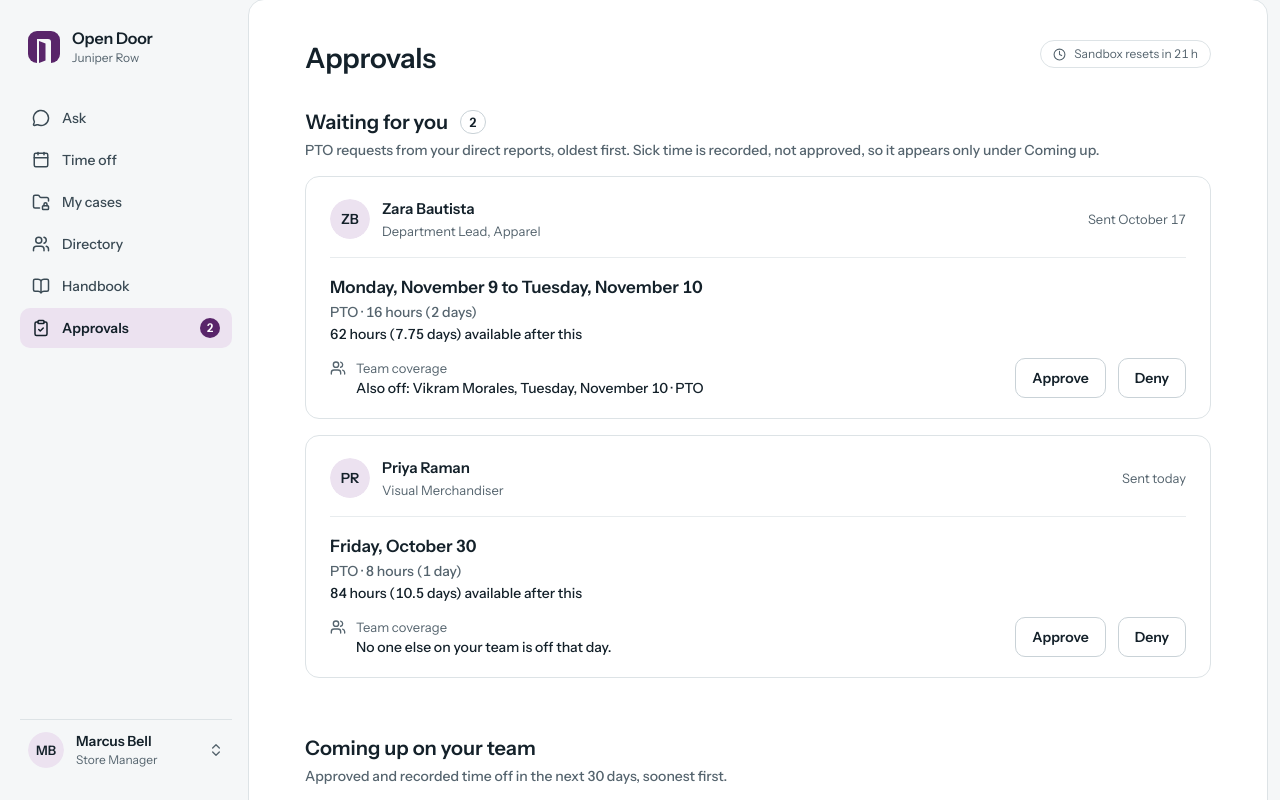
Approvals: deciding › denies without a note: the toast says it, and no note is sent
(page scrolled)
expect the heading "Waiting for you 2" is shown: met, box [305,110,486,134]
Click the button "Deny" below "Sent today": [1152, 637] box [1118,617,1186,657]
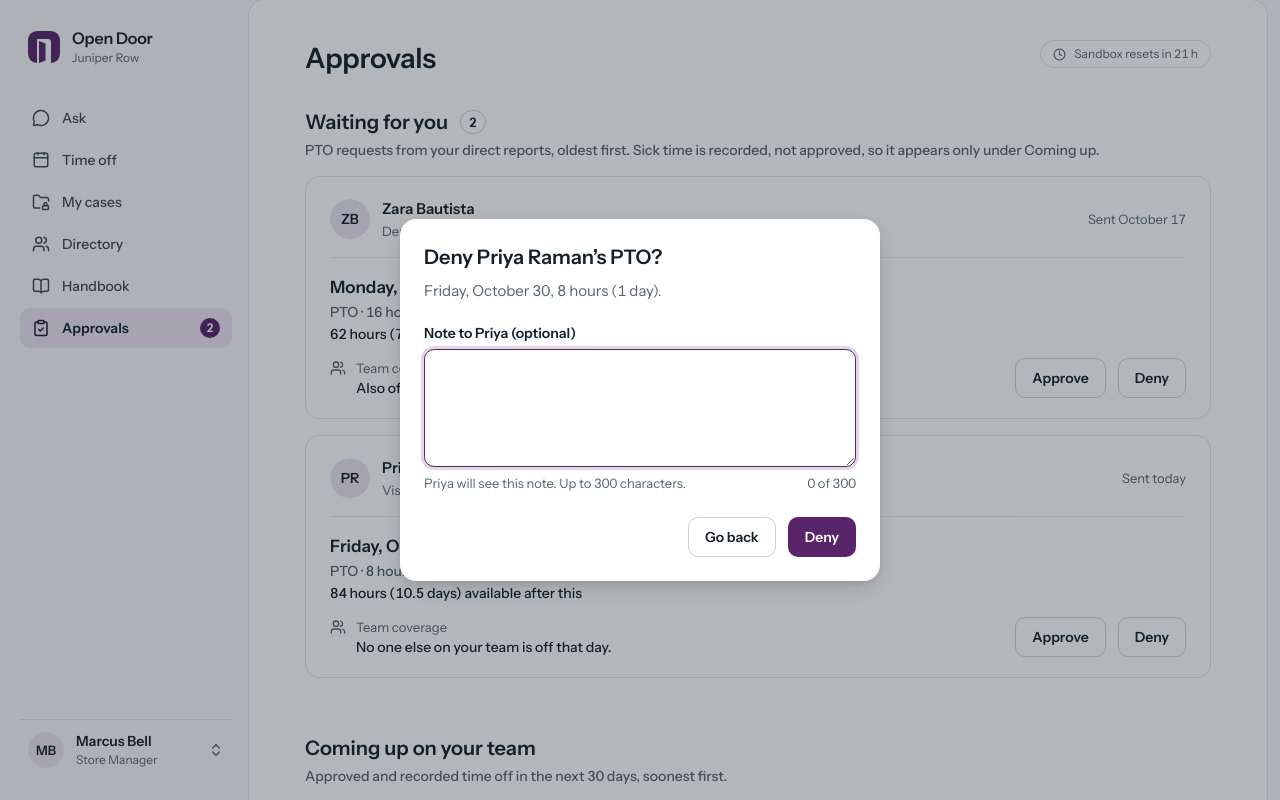
Click the button "Deny": [822, 537] box [788,517,856,557]
(page scrolled)
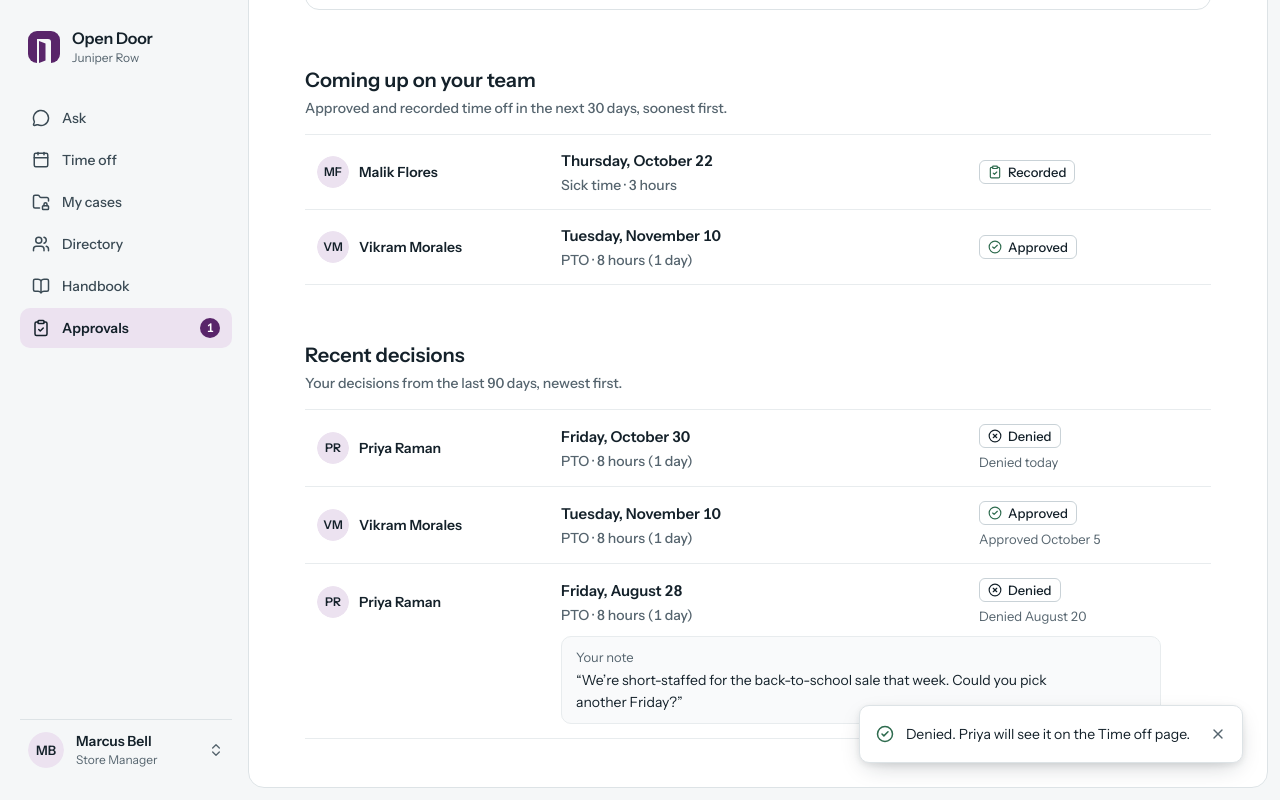
expect the list item "Denied. Priya will see it on the Time off page." is shown: met, box [859,705,1243,763]
expect the dialog is gone: met
